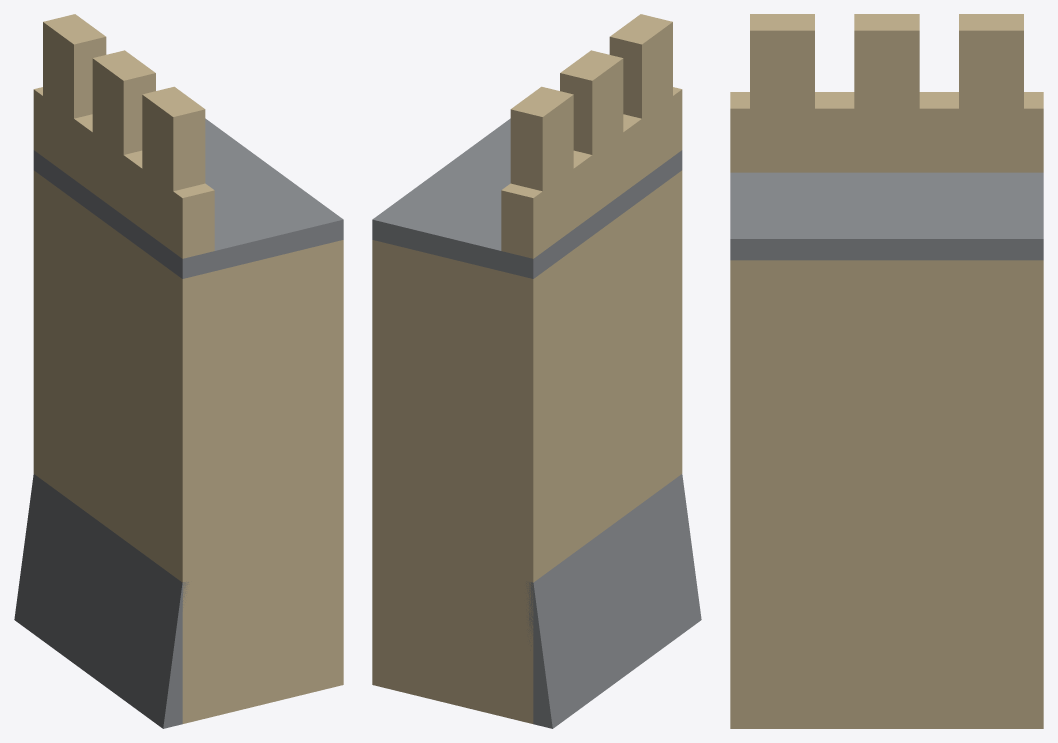
File: west-curtain-bay-4000.glb
3 renders of one model, left to right at view 1: azimuth 30°, elevation 25°; view 2: azimuth 150°, elevation 25°; view 3: azimuth 270°, elevation 25°, orthographic. The views are drawn at different scales.
Visible parts, largest first — view 1: Mesh_Body, Mesh_BatteredBase, Mesh_WalkDeck, Mesh_Breastwork, Mesh_Merlon_3, Mesh_Merlon_2, Mesh_Merlon_1; view 2: Mesh_Body, Mesh_BatteredBase, Mesh_WalkDeck, Mesh_Breastwork, Mesh_Merlon_1, Mesh_Merlon_2, Mesh_Merlon_3; view 3: Mesh_Body, Mesh_WalkDeck, Mesh_Breastwork, Mesh_Merlon_2, Mesh_Merlon_1, Mesh_Merlon_3.
Part boxes in pixels (x1=…): Mesh_Body: x1=33, y1=170, x2=343, y2=723; Mesh_BatteredBase: x1=14, y1=474, x2=189, y2=728; Mesh_WalkDeck: x1=33, y1=118, x2=343, y2=278; Mesh_Breastwork: x1=33, y1=87, x2=214, y2=258; Mesh_Merlon_3: x1=142, y1=86, x2=205, y2=191; Mesh_Merlon_2: x1=92, y1=50, x2=155, y2=154; Mesh_Merlon_1: x1=43, y1=14, x2=106, y2=118; Mesh_Body: x1=372, y1=170, x2=682, y2=723; Mesh_BatteredBase: x1=526, y1=474, x2=701, y2=728; Mesh_WalkDeck: x1=372, y1=118, x2=682, y2=278; Mesh_Breastwork: x1=501, y1=87, x2=682, y2=258; Mesh_Merlon_1: x1=510, y1=86, x2=573, y2=191; Mesh_Merlon_2: x1=560, y1=50, x2=623, y2=154; Mesh_Merlon_3: x1=609, y1=14, x2=672, y2=118; Mesh_Body: x1=730, y1=260, x2=1043, y2=728; Mesh_WalkDeck: x1=730, y1=172, x2=1043, y2=260; Mesh_Breastwork: x1=730, y1=92, x2=1043, y2=172; Mesh_Merlon_2: x1=854, y1=14, x2=919, y2=108; Mesh_Merlon_1: x1=959, y1=14, x2=1023, y2=108; Mesh_Merlon_3: x1=750, y1=14, x2=814, y2=108.
Bounding box in the file's own units: 2.8 × 8.9 × 4.
